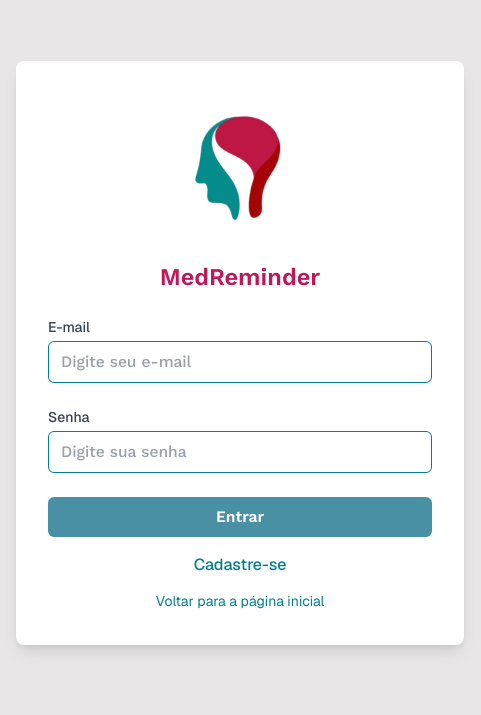
it: NET-02 NET-03 login feedback › ERR-12 resposta sem token é erro de contrato sem refletir message
The image size is (481, 715).
Type "pessoa@example.test" into the field labelled "E-mail".
click(240, 362); type("pessoa@example.test")  # box 48,341 -> 432,383
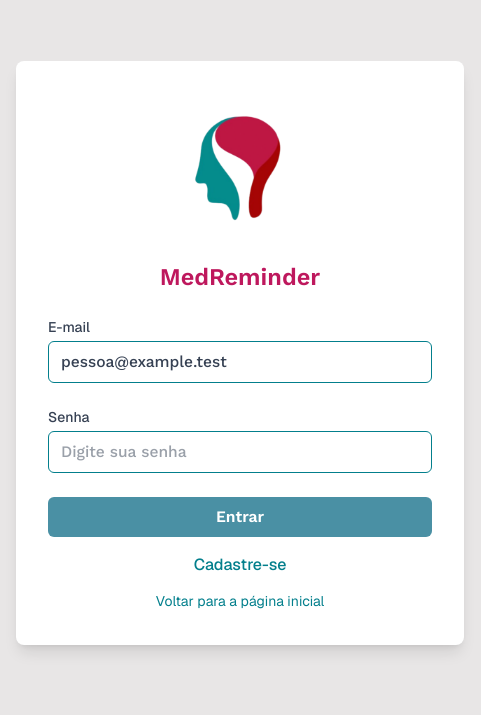
Type "Senha123!" into the password field labelled "Senha".
click(240, 452); type("Senha123!")  # box 48,431 -> 432,473
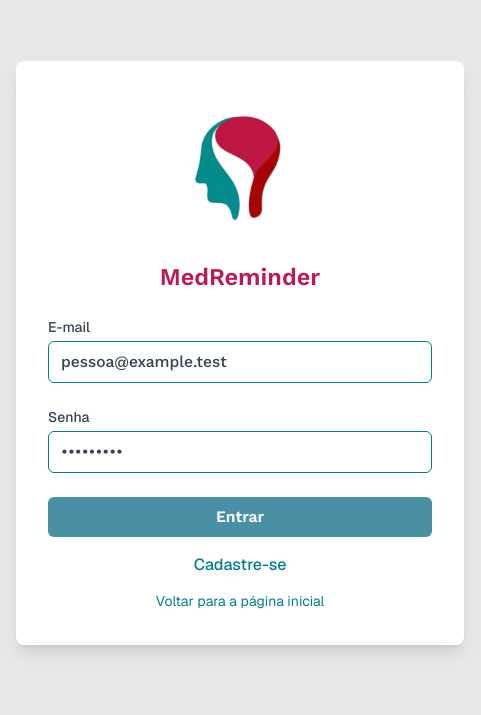
Click the button "Entrar".
click(240, 517)  # box 48,497 -> 432,537
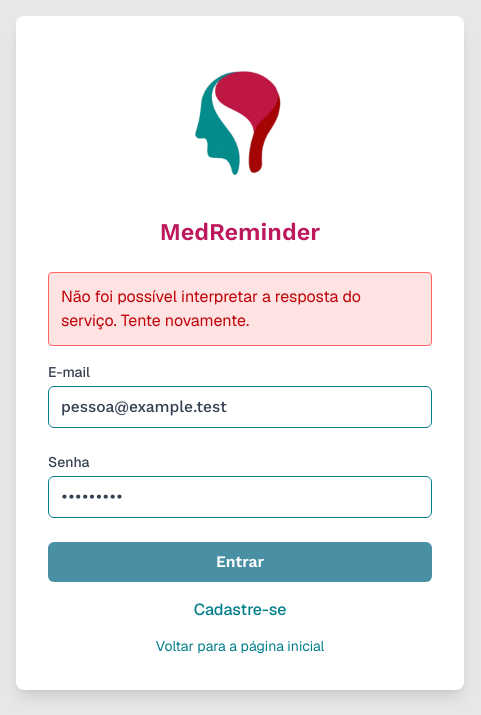
Expected: the message shows "Não foi possível interpretar a resposta", 61,286 -> 361,331
Expected: the message reads "Não foi possível interpretar a resposta do serviço. Tente novamente.", 61,286 -> 361,331
